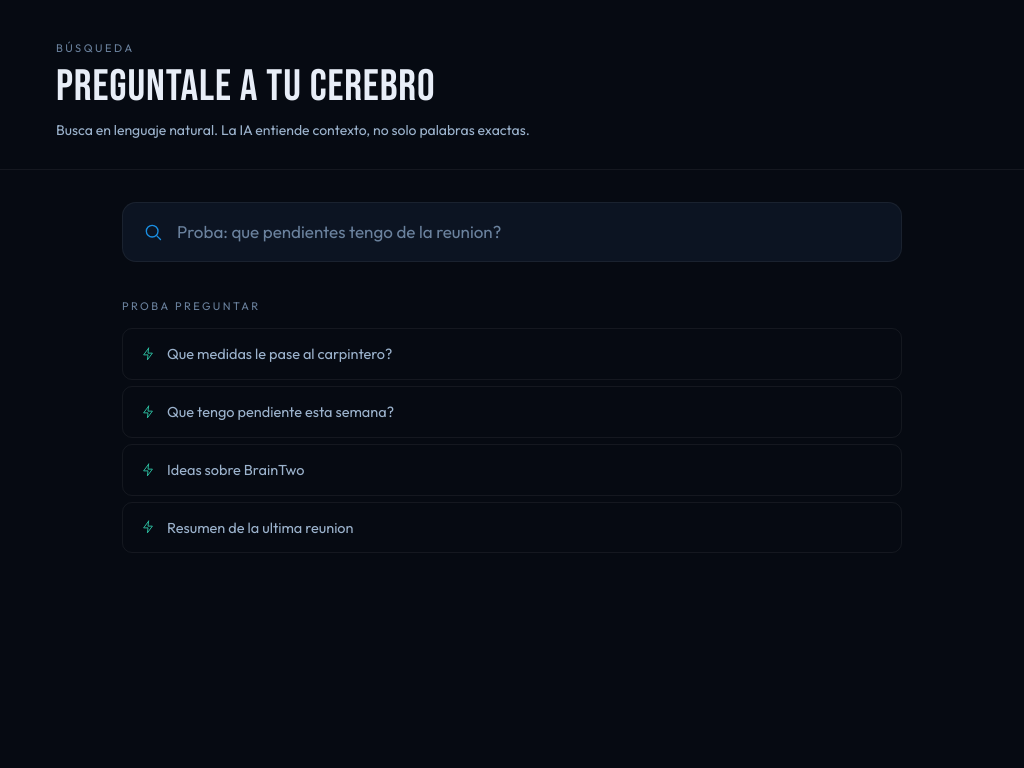
Scenario: <Search /> › debounces and renders semantic results
Type "brain" into the search field named "Buscar en BrainTwo" at (529, 232), box [177,219,881,245]
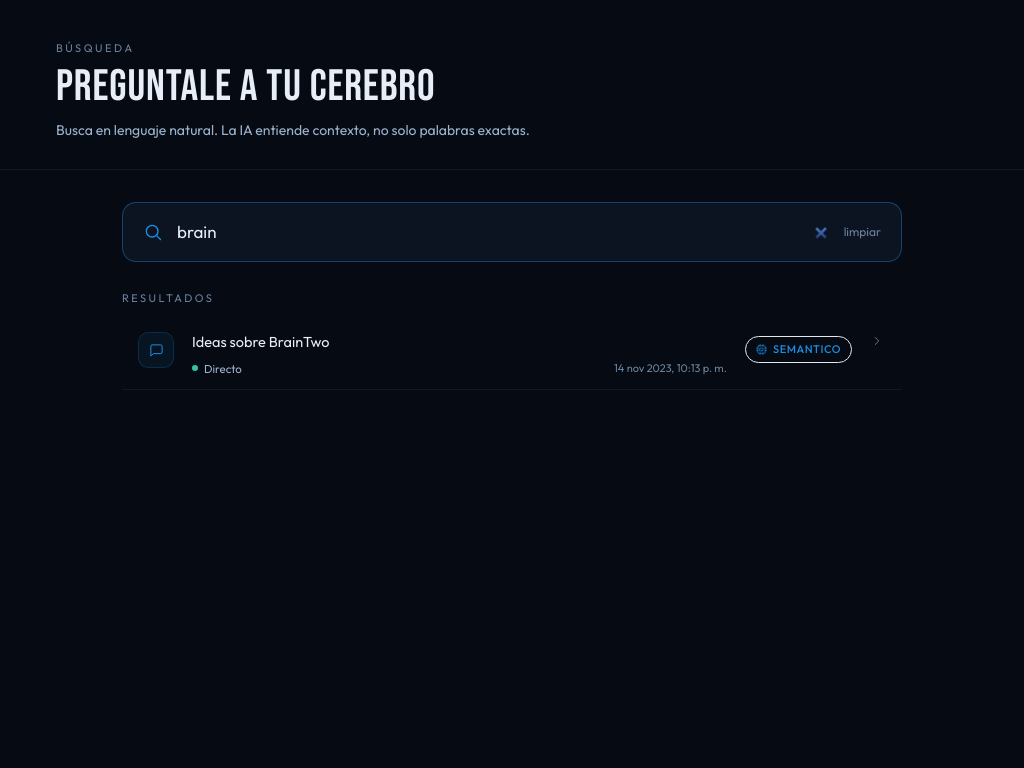
expect the text "Ideas sobre BrainTwo" is shown: met, box [192,332,330,351]
expect the text "Semantico" is shown: met, box [745,336,852,363]
